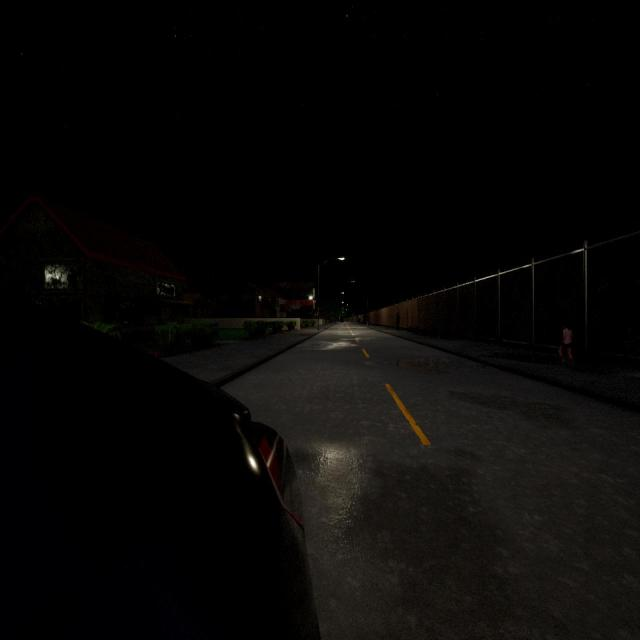Pedestrian: (558, 323, 574, 365), (395, 312, 400, 329)
Vehicle: (0, 290, 319, 637)
